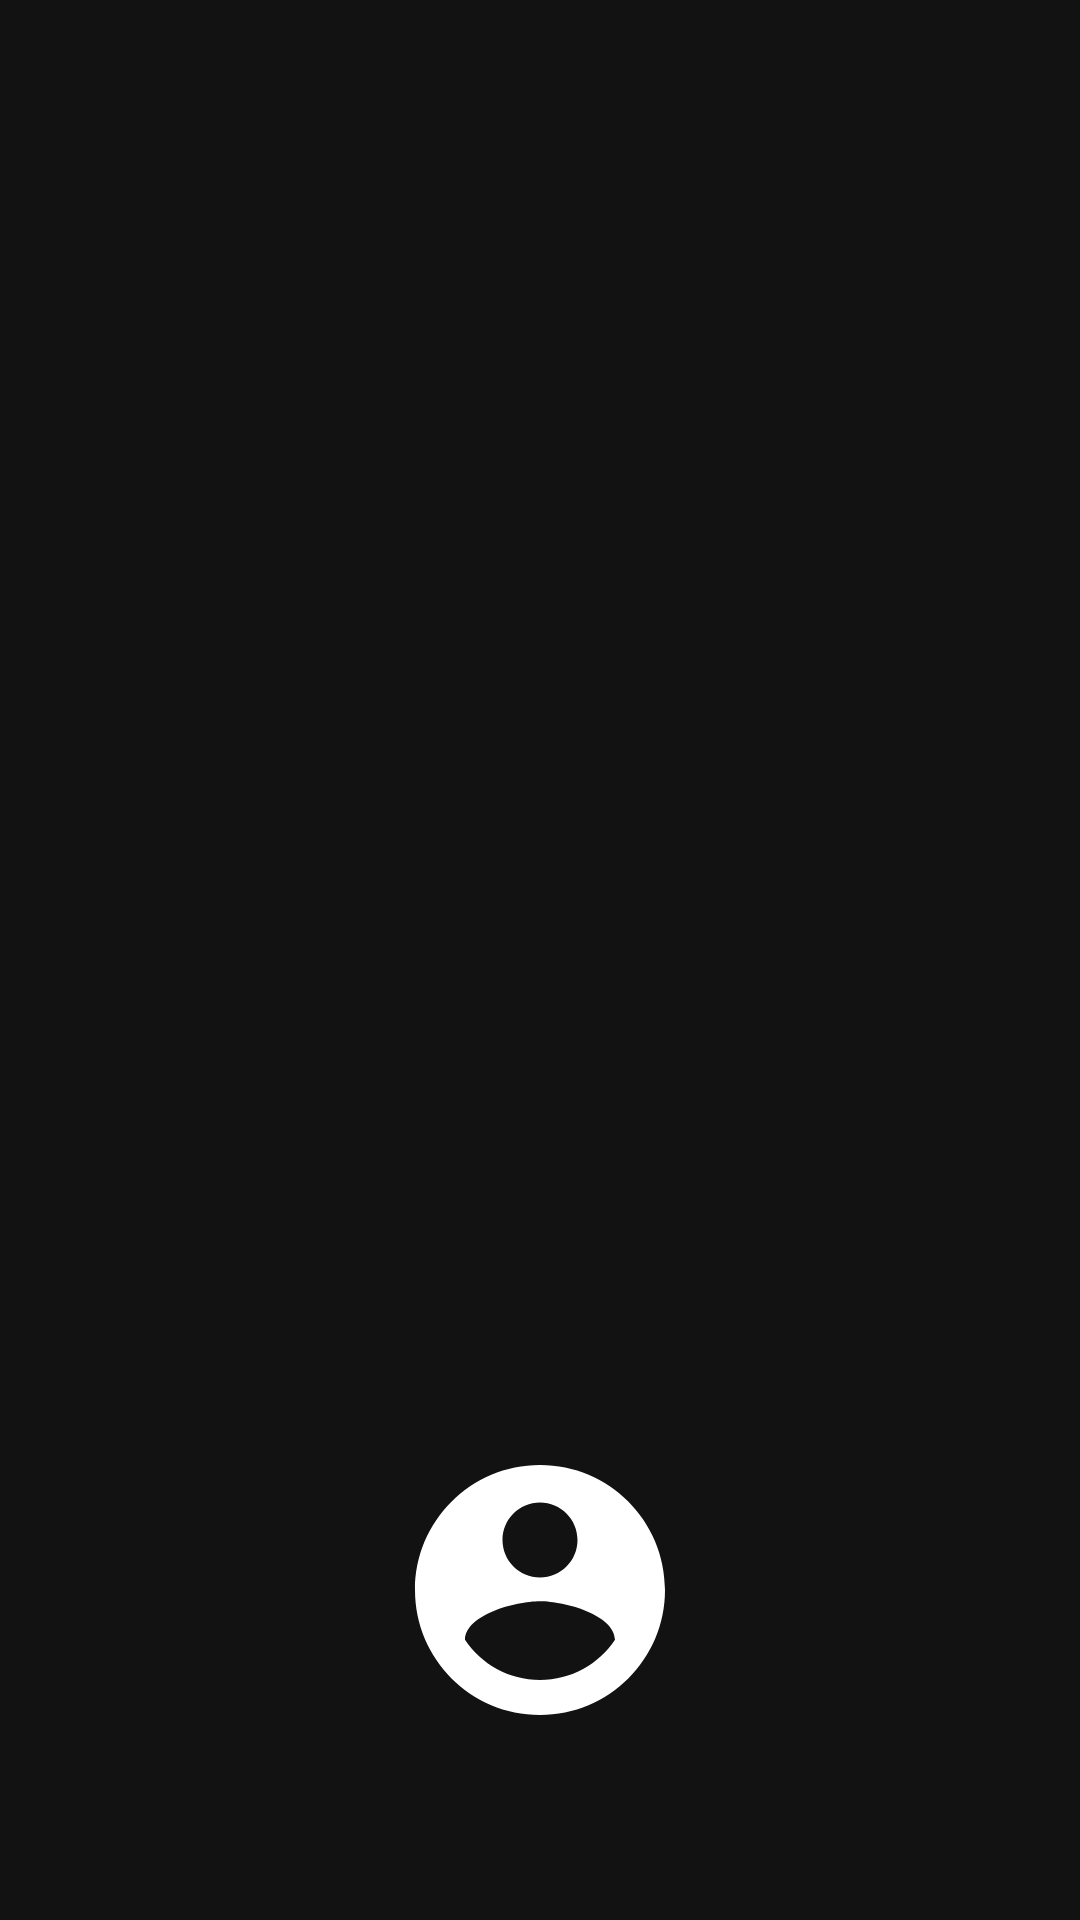

Named icons in this screenshot (1080×1920) and their bounding boxes, (left=x1, top=y1, right=x2, bottom=y2):
user: (left=415, top=1465, right=665, bottom=1715)
